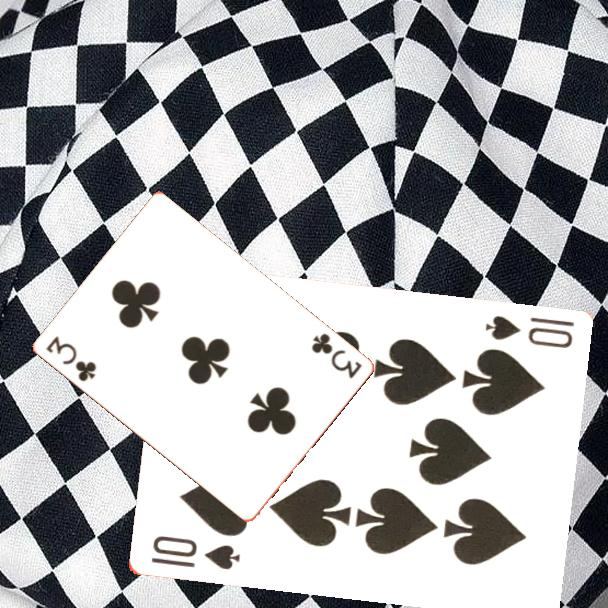c03: (42, 332, 99, 385), (307, 329, 364, 382)
s10: (147, 532, 243, 573), (481, 312, 577, 352)
